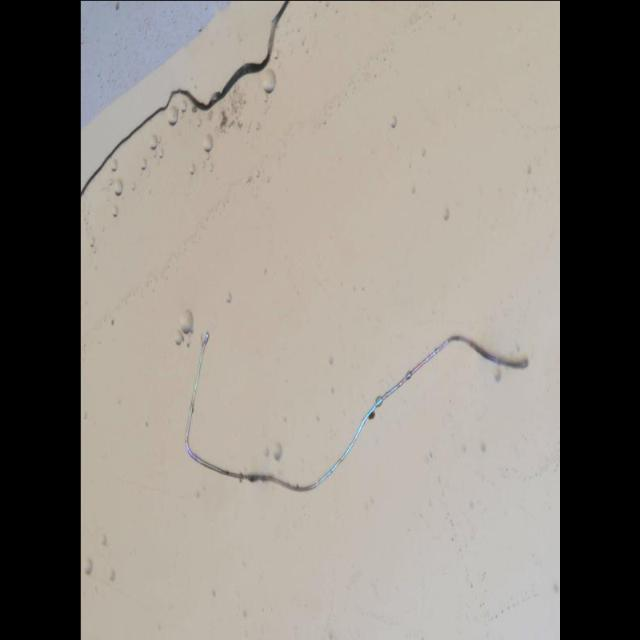Fibre: (183, 328, 529, 494)
